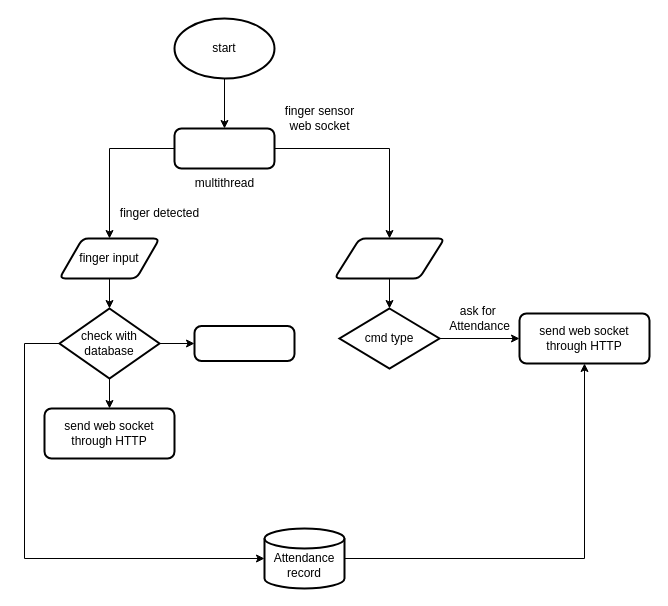
The diagram is 668 pixels wide and 606 high, and some of its shapes have lost their labels. The shapes that lost their labels are listed below. From the top down, each one's box as (x1, y1, x2, y2) in pixels, then its label:
(173, 127, 275, 169): Initial config
(333, 237, 445, 279): web command
(193, 324, 295, 362): LINE Notify
